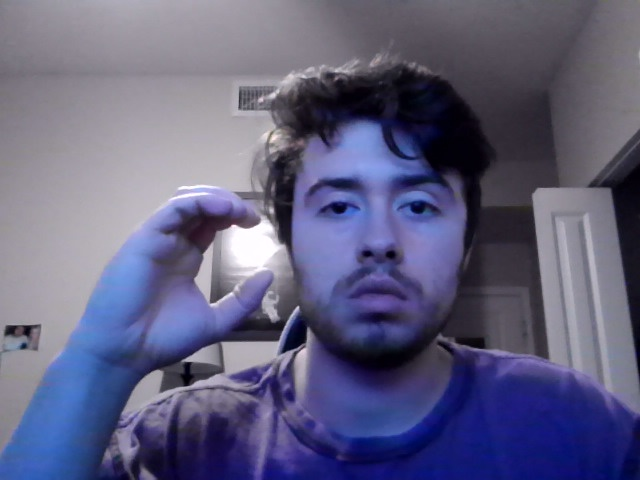c: (73, 183, 275, 380)
